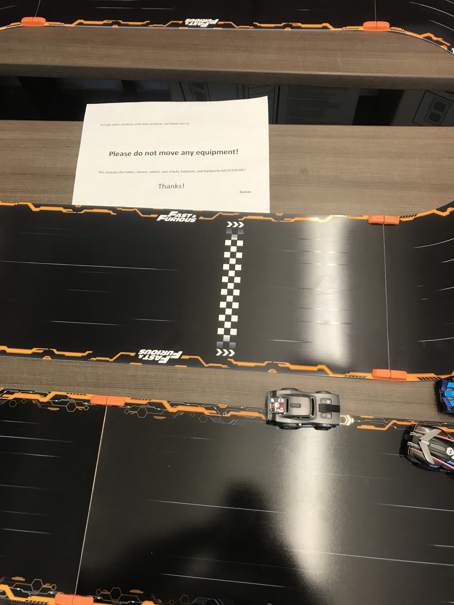Charger: (266, 386, 342, 433)
Finish Line: (216, 219, 244, 358)
